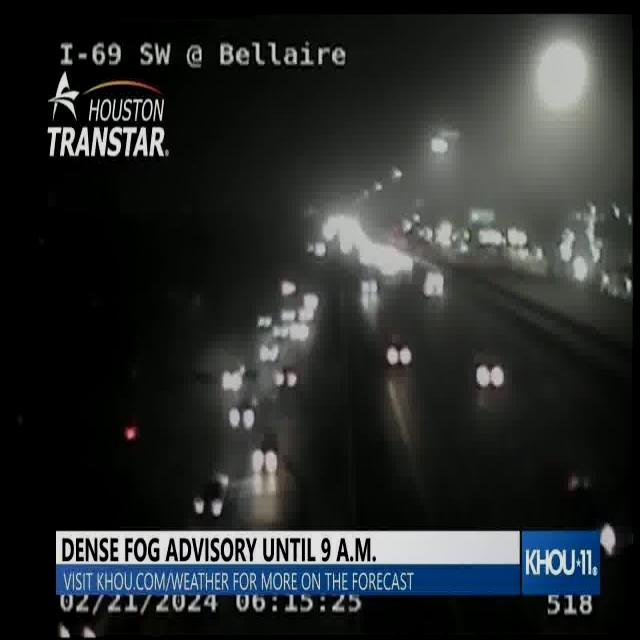Car: (249, 433, 280, 482), (473, 351, 506, 393), (200, 478, 228, 516), (228, 399, 256, 428), (386, 342, 412, 370), (222, 365, 246, 392), (258, 340, 281, 364), (288, 320, 311, 343), (310, 236, 330, 258), (361, 272, 380, 295), (278, 367, 298, 387), (302, 291, 319, 312), (123, 421, 139, 443), (251, 449, 265, 473), (280, 306, 298, 324), (281, 279, 297, 298), (256, 314, 273, 331)
